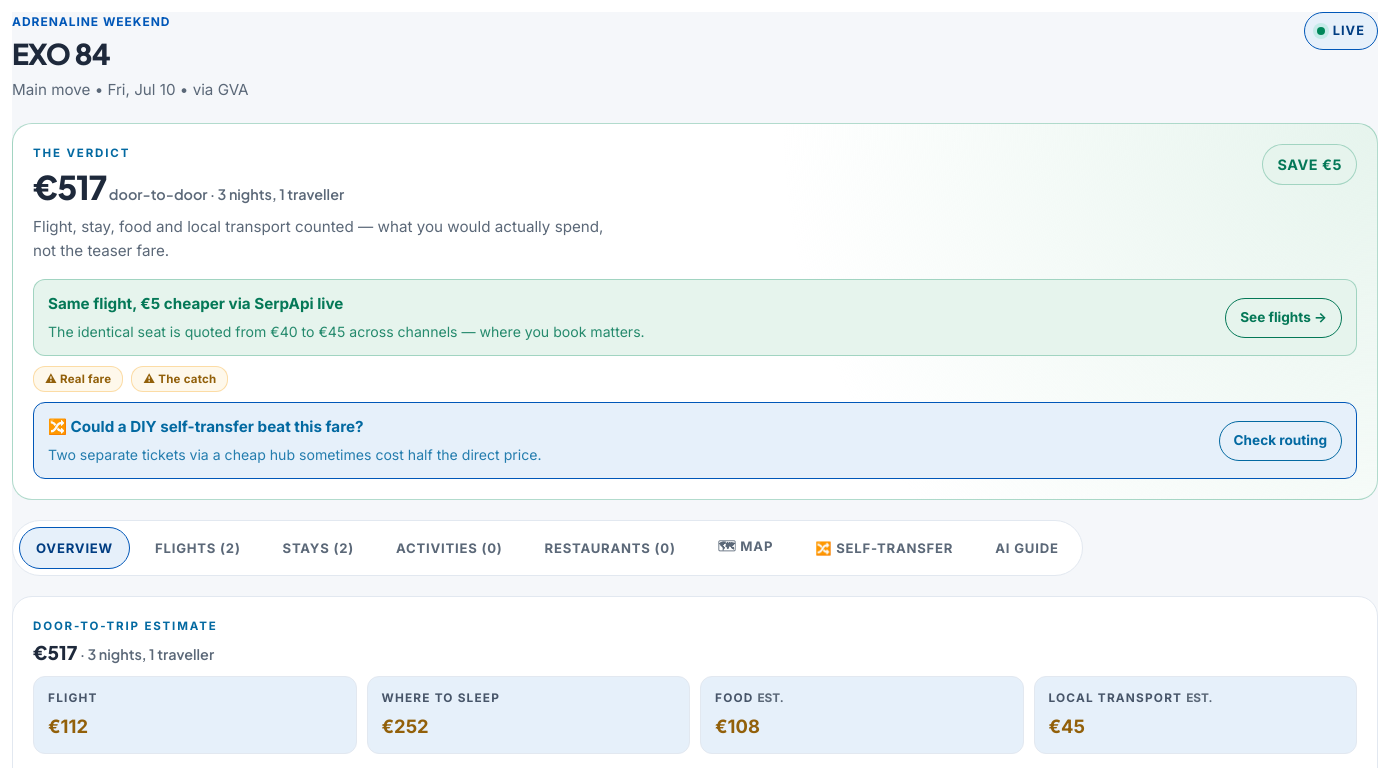
TripExploreDashboard — flights tab › filters down to Anti-Cauchemar approved flights
The width and height of the screenshot is (1378, 768).
Click the tab "Flights (2)" at (198, 548), box 138,527 -> 258,569
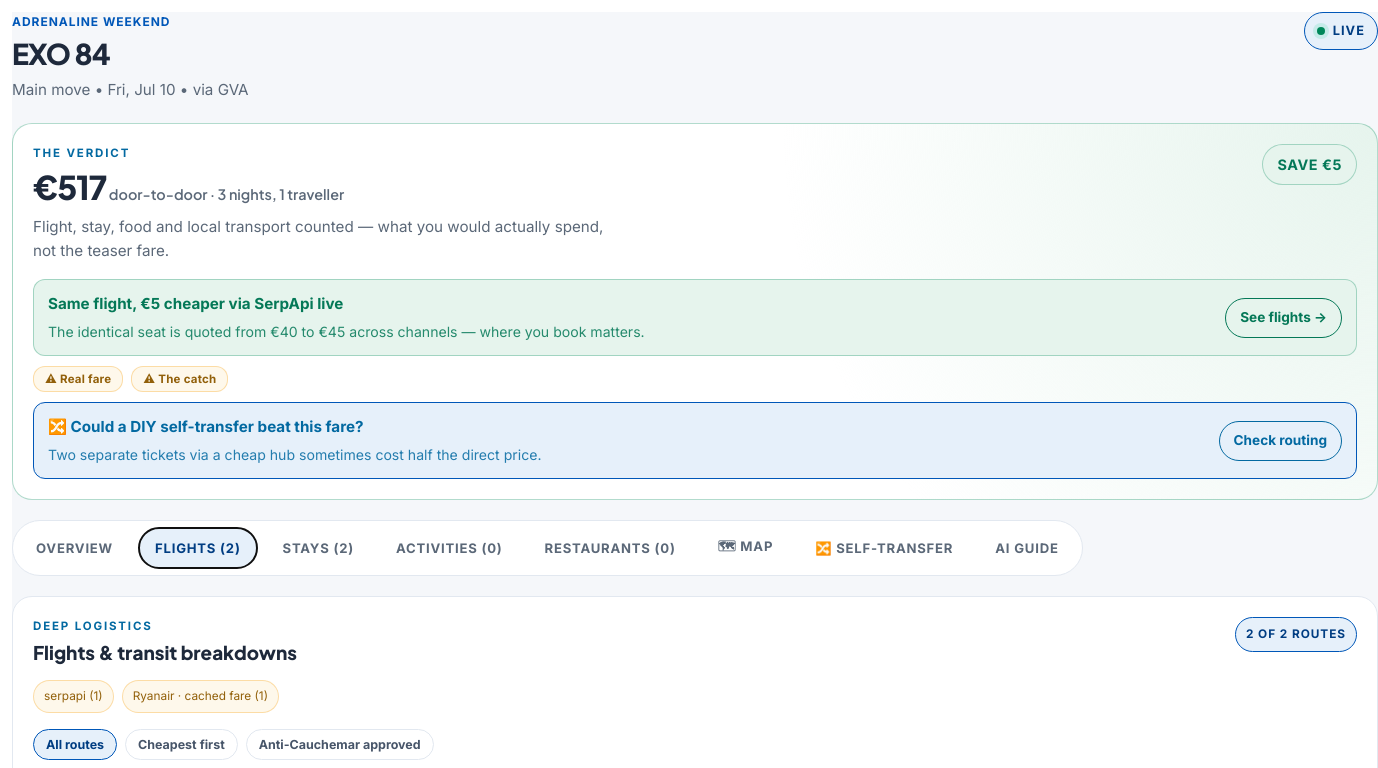
Click the button "Anti-Cauchemar approved" at (340, 744), box 246,729 -> 434,760
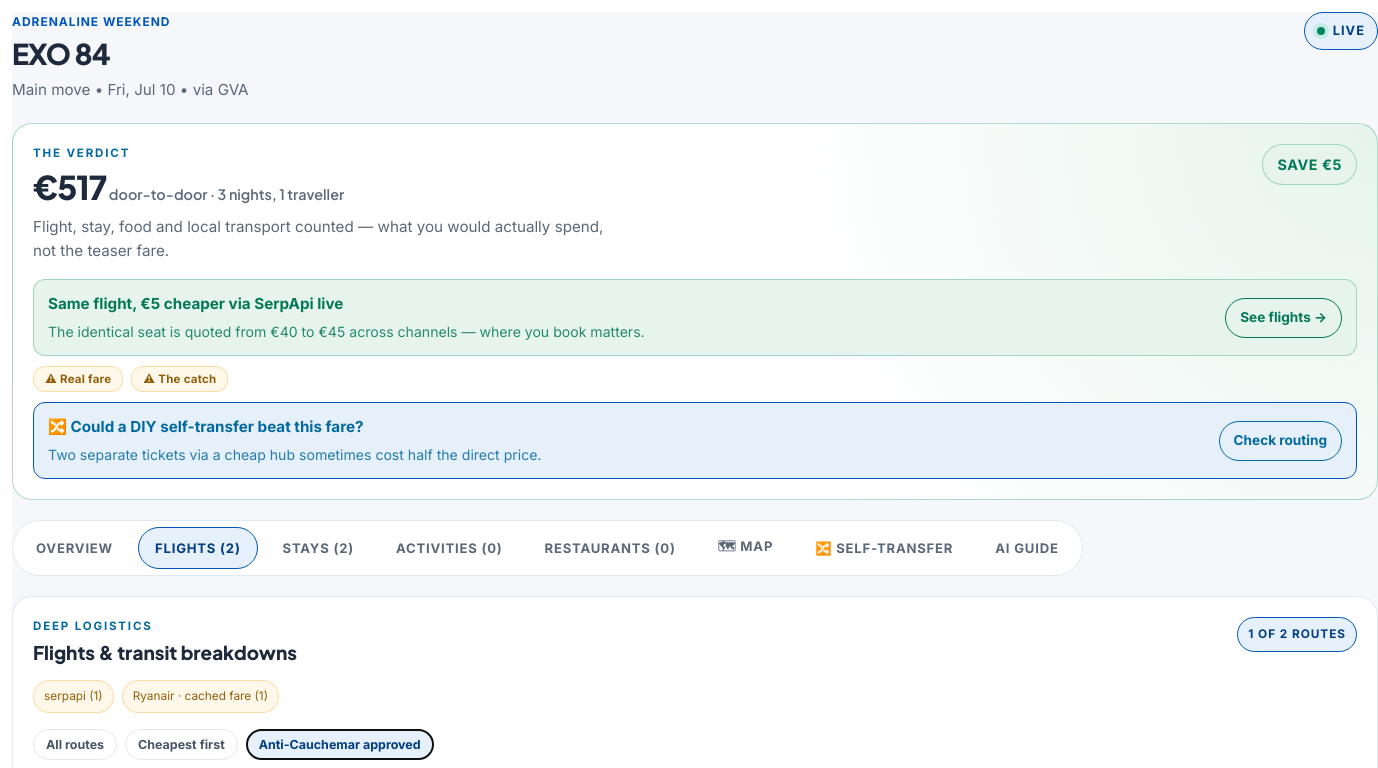
expect the text "1 of 2 routes" is shown: met, box 1237,617 -> 1357,652
